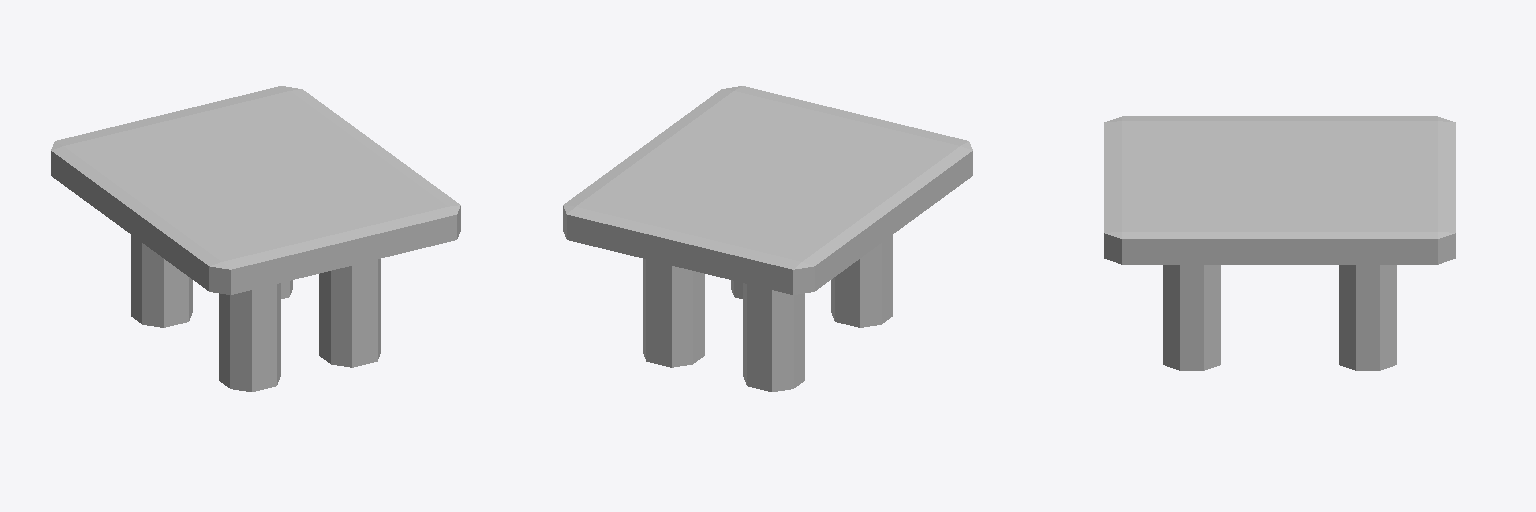
The model's file is table.obj.
3 views of the same model, side by side, from view 1: azimuth 30°, elevation 25°; view 2: azimuth 150°, elevation 25°; view 3: azimuth 270°, elevation 25° (orthographic).
Visible parts, largest first — view 1: Cube_Cube.005; view 2: Cube_Cube.005; view 3: Cube_Cube.005.
Boxes of the visible parts, box(x1,y1,x2,y2) form: Cube_Cube.005: box(51, 86, 460, 391); Cube_Cube.005: box(563, 86, 972, 391); Cube_Cube.005: box(1104, 116, 1455, 370).
Size of the model in its own units: 2 by 1.21 by 2.42.